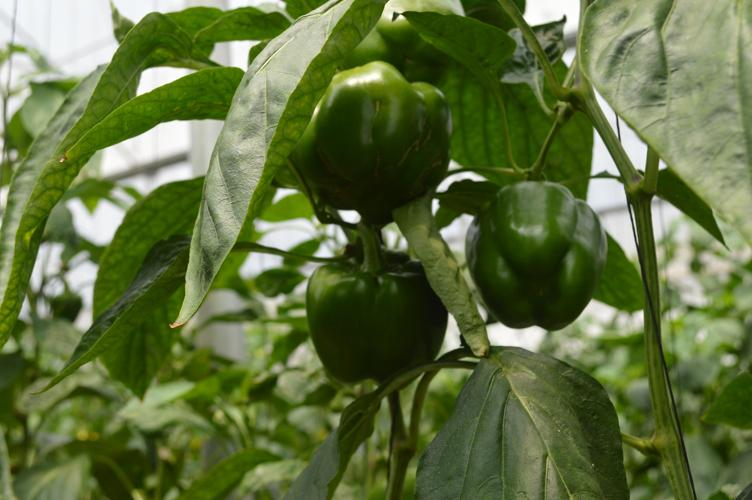BellPepper: (300, 66, 452, 212), (463, 181, 610, 330), (305, 262, 442, 379)
